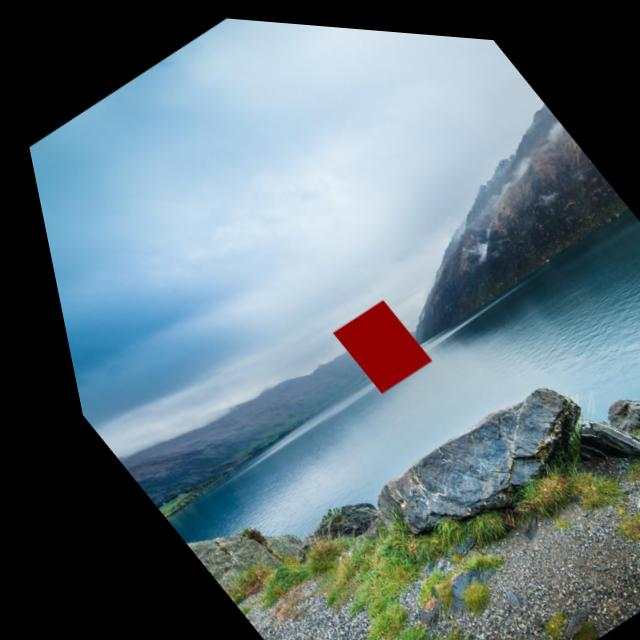RedSquare: (302, 279, 435, 402)
